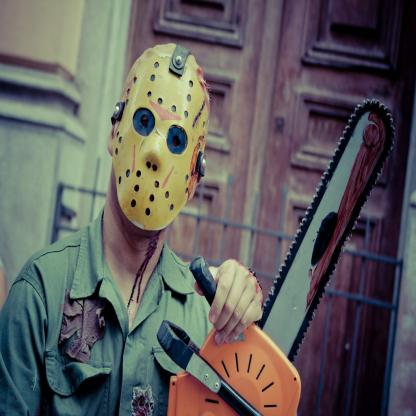Helmet: (109, 43, 214, 314)
